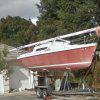Boat: (13, 32, 100, 84)
